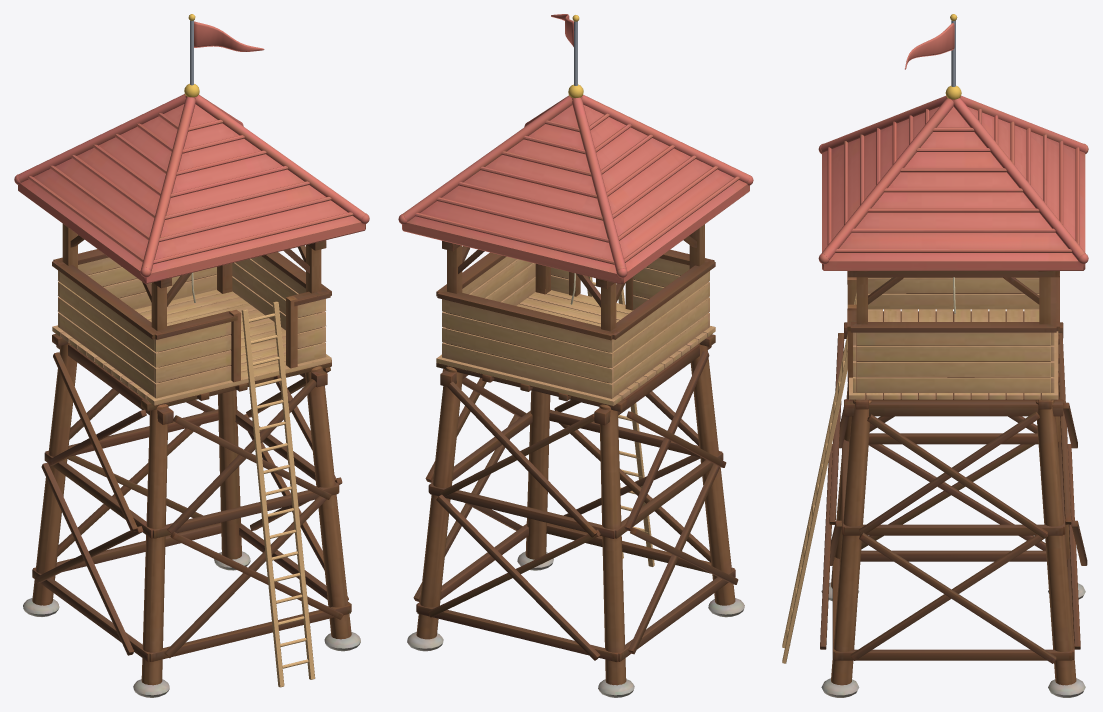
The model's file is atalaya.glb.
The picture shows the model from 3 angles, left to right: view 1: azimuth 30°, elevation 25°; view 2: azimuth 150°, elevation 25°; view 3: azimuth 270°, elevation 25°; orthographic projection. The views are drawn at different scales.
Visible parts, largest first — view 1: wooden-watchtower_body; view 2: wooden-watchtower_body; view 3: wooden-watchtower_body.
Part boxes in pixels (box(x1,y1,x2,y2)): wooden-watchtower_body: box(14, 14, 369, 697); wooden-watchtower_body: box(398, 14, 753, 697); wooden-watchtower_body: box(782, 14, 1088, 697).
Bounding box in the file's own units: 3.7 × 9.55 × 4.19.
7 materials, 1 textured.
